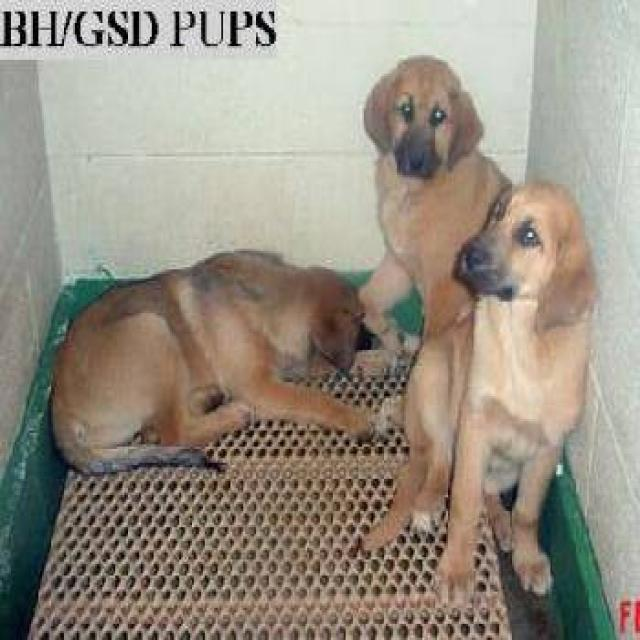dog: (358, 178, 598, 606), (48, 246, 388, 474)
